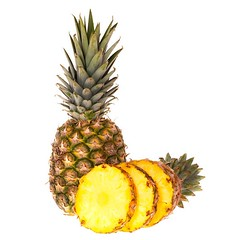Pineapple: (51, 8, 128, 215)
